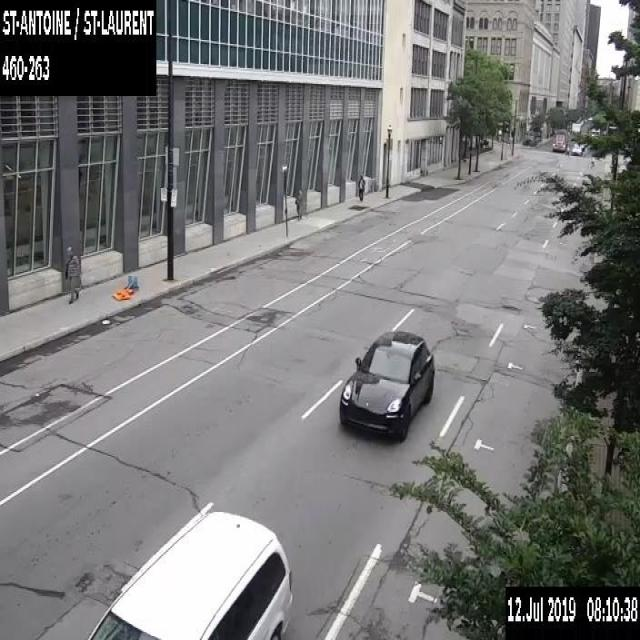construction: (110, 274, 137, 298)
cyclist: (587, 156, 596, 170)
pedestrian: (64, 244, 80, 305), (294, 188, 302, 220), (357, 173, 365, 203), (565, 143, 568, 155)
vehicle: (87, 509, 294, 639), (337, 329, 435, 443), (551, 128, 568, 151), (570, 142, 582, 154)
